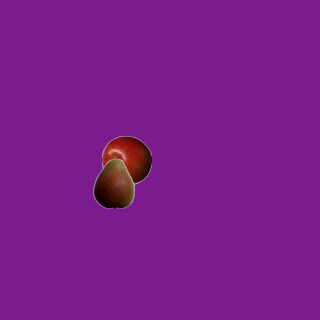Apple Braeburn: (101, 135, 151, 185)
Pear Forelle: (88, 158, 138, 208)
